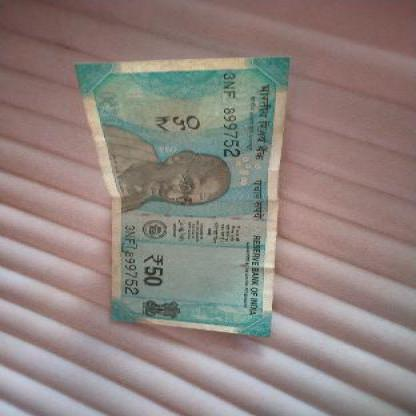New50Front: (77, 59, 279, 330)
